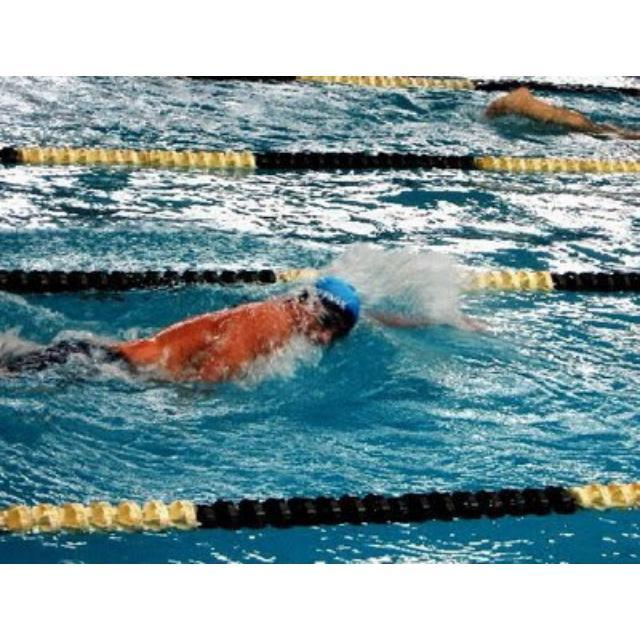human: (107, 277, 363, 393)
